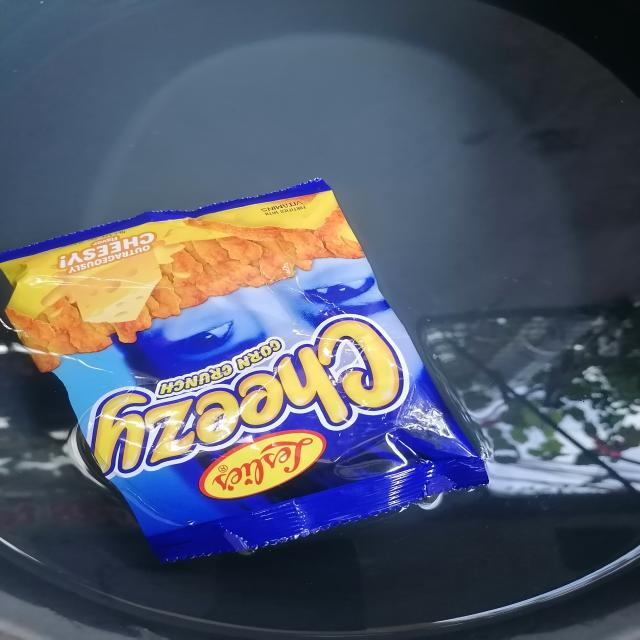Plastic Wrapper: (0, 180, 488, 562)
